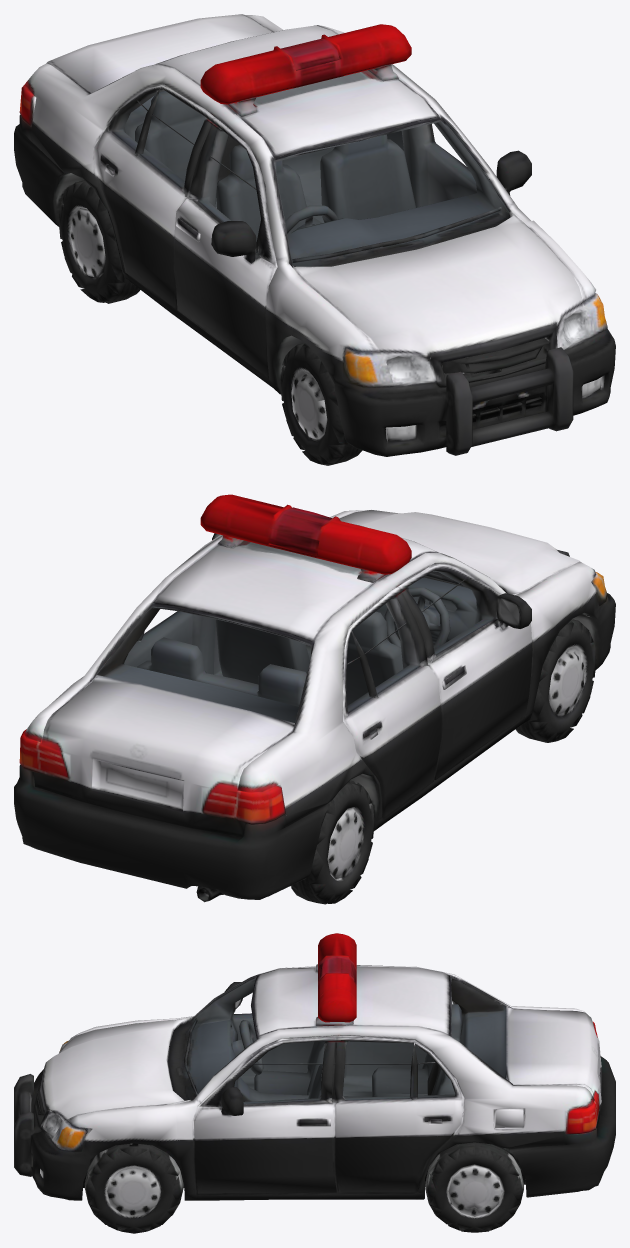
File: police_car.glb
3 views of the same model, one above another, from view 1: azimuth 30°, elevation 25°; view 2: azimuth 150°, elevation 25°; view 3: azimuth 270°, elevation 25° (orthographic). The views are drawn at different scales.
Visible parts, largest first — view 1: tripo_node_93332949-ca48-45e4-a1b8-5a51c699a54f; view 2: tripo_node_93332949-ca48-45e4-a1b8-5a51c699a54f; view 3: tripo_node_93332949-ca48-45e4-a1b8-5a51c699a54f.
Part boxes in pixels (x1=…): tripo_node_93332949-ca48-45e4-a1b8-5a51c699a54f: x1=14, y1=14, x2=615, y2=465; tripo_node_93332949-ca48-45e4-a1b8-5a51c699a54f: x1=14, y1=494, x2=615, y2=904; tripo_node_93332949-ca48-45e4-a1b8-5a51c699a54f: x1=14, y1=933, x2=615, y2=1233.
Size of the model in its own units: 0.4575 by 0.4001 by 0.9781.
Materials: 1 (1 with a texture image).
